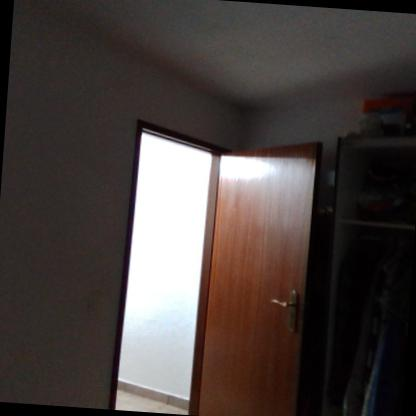open: (95, 115, 330, 415)
